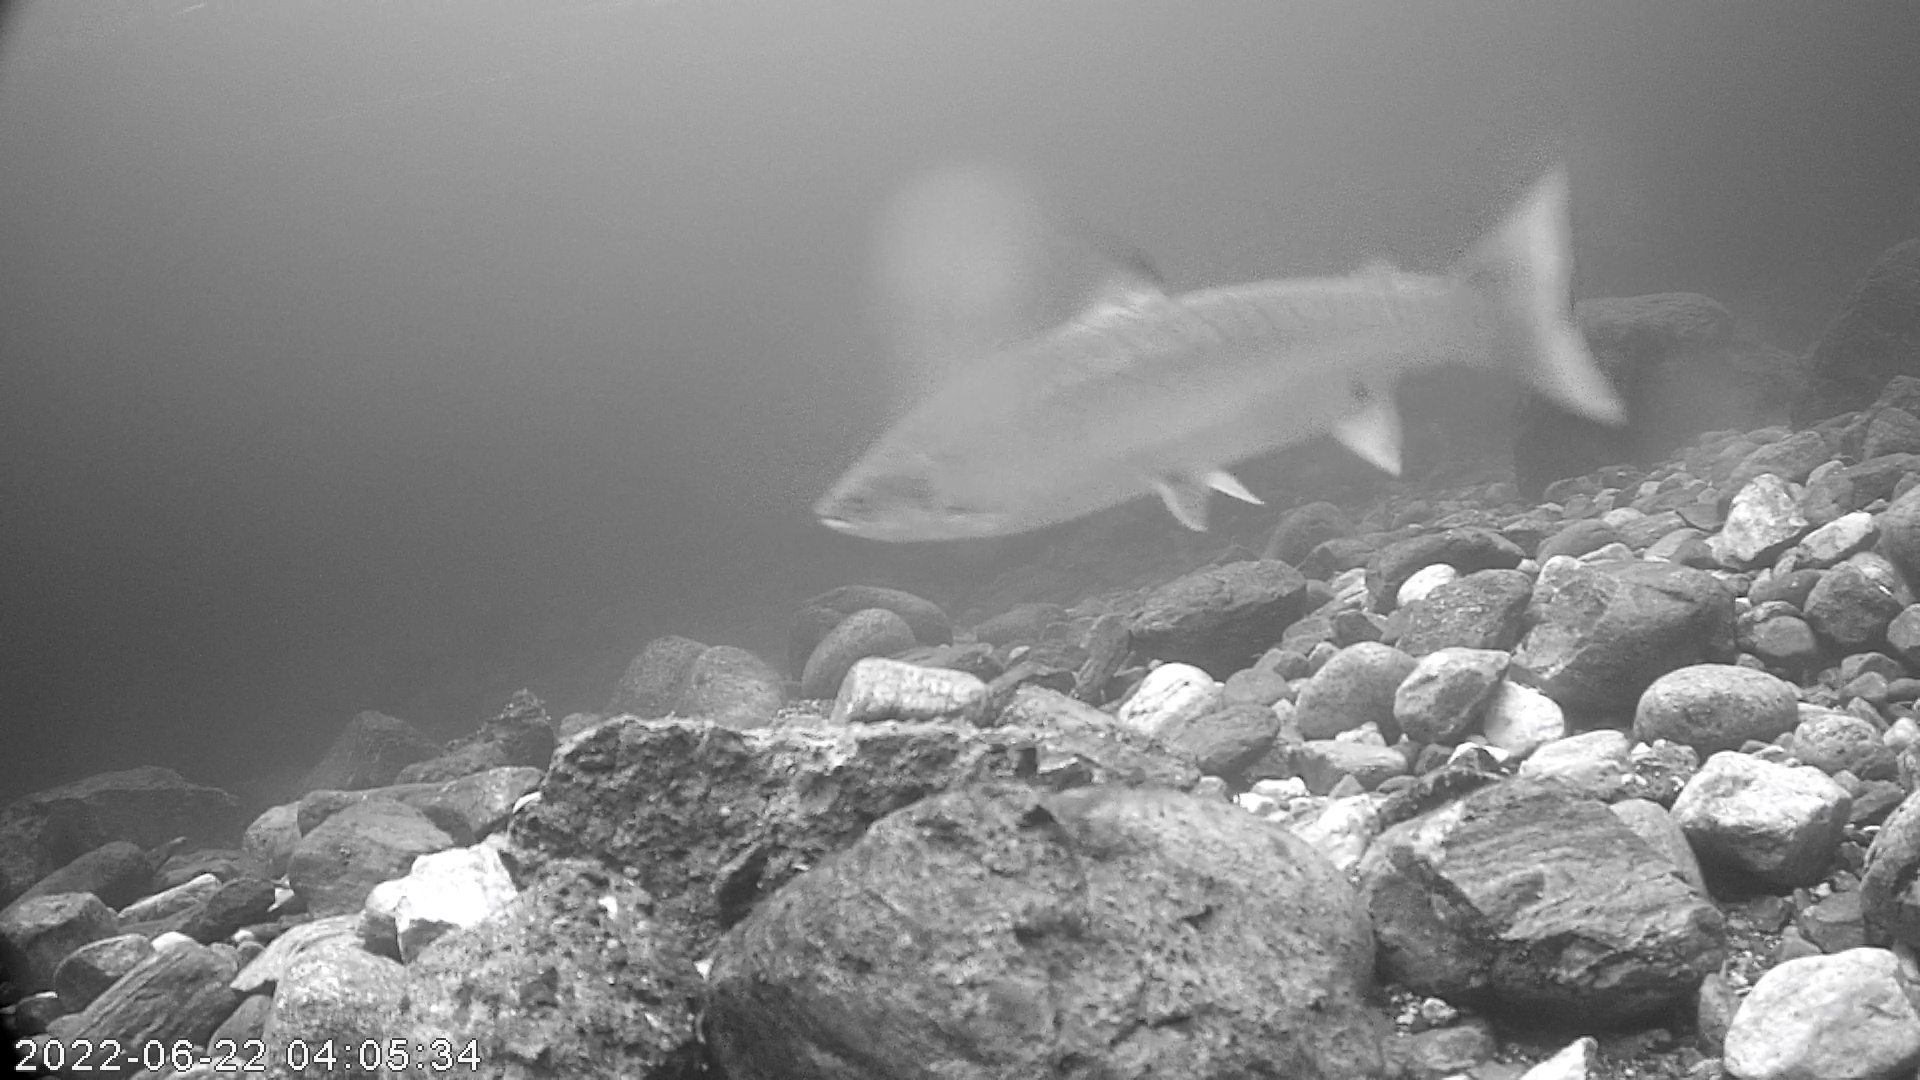salmon: (808, 161, 1625, 550)
